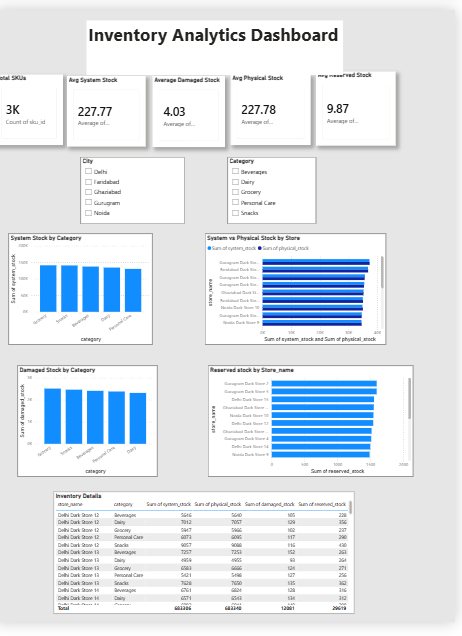

The page's visual inventory and layout, read from the dashboard file:
{"tool":"powerbi","page":{"name":"Page 2","canvas":[1280,1700],"ordinal":1},"visuals":[{"type":"cardVisual","title":"Total SKUs","fields":{"Data":["CountNonNull(Inventory.sku_id)"]},"box":[0,180,188.6,195.7],"z":0},{"type":"cardVisual","title":"Avg System Stock","fields":{"Data":["Avg(Inventory.system_stock)"]},"box":[198.6,181.4,218.6,195.7],"z":1},{"type":"cardVisual","title":"Avg Physical Stock","fields":{"Data":["Avg(Inventory.physical_stock)"]},"box":[655.7,178.6,222.9,195.7],"z":2},{"type":"cardVisual","title":"Average Damaged Stock","fields":{"Data":["Avg(Inventory.damaged_stock)"]},"box":[438.6,181.4,201.4,197.1],"z":3},{"type":"cardVisual","title":"Avg Reserved Stock","fields":{"Data":["Avg(Inventory.reserved_stock)"]},"box":[890,170,221.4,205.7],"z":4},{"type":"clusteredColumnChart","title":"System Stock by Category","fields":{"Category":["Products (1).category"],"Y":["Sum(Inventory.system_stock)"]},"box":[38.6,620,400,308.6],"z":5},{"type":"clusteredBarChart","title":"System vs Physical Stock by Store","fields":{"Category":["Stores.store_name"],"Y":["Sum(Inventory.system_stock)","Sum(Inventory.physical_stock)"]},"box":[582.9,620,502.9,308.6],"z":6},{"type":"clusteredColumnChart","title":"Damaged Stock by Category","fields":{"Category":["Products (1).category"],"Y":["Sum(Inventory.damaged_stock)"]},"box":[61.4,985.7,388.6,308.6],"z":7},{"type":"clusteredBarChart","title":"Reserved stock by Store_name","fields":{"Category":["Stores.store_name"],"Y":["Sum(Inventory.reserved_stock)"]},"box":[590,985.7,570,308.6],"z":8},{"type":"tableEx","title":"Inventory Details","fields":{"Values":["Stores.store_name","Products (1).category","Sum(Inventory.system_stock)","Sum(Inventory.physical_stock)","Sum(Inventory.damaged_stock)","Sum(Inventory.reserved_stock)"]},"box":[164.3,1338.6,835.7,340],"z":9},{"type":"slicer","title":"City","fields":{"Values":["Stores.city"]},"box":[238.6,408.6,290,185.7],"z":10},{"type":"slicer","title":"Category","fields":{"Values":["Products (1).category"]},"box":[644.3,408.6,245.7,185.7],"z":11},{"type":"textbox","box":[255.7,27.1,712.9,151.4],"z":12}]}

Visuals, with their boxes on the page's 1280x1700 design canvas (x1, y1, x2, y2). These are canvas units, not pixel positions in the 462x636 screenshot, which may show the page scaled, cropped or inside an application window:
"Total SKUs" cardVisual: <region>0, 180, 189, 376</region>
"Avg System Stock" cardVisual: <region>199, 181, 417, 377</region>
"Avg Physical Stock" cardVisual: <region>656, 179, 879, 374</region>
"Average Damaged Stock" cardVisual: <region>439, 181, 640, 378</region>
"Avg Reserved Stock" cardVisual: <region>890, 170, 1111, 376</region>
"System Stock by Category" clusteredColumnChart: <region>39, 620, 439, 929</region>
"System vs Physical Stock by Store" clusteredBarChart: <region>583, 620, 1086, 929</region>
"Damaged Stock by Category" clusteredColumnChart: <region>61, 986, 450, 1294</region>
"Reserved stock by Store_name" clusteredBarChart: <region>590, 986, 1160, 1294</region>
"Inventory Details" tableEx: <region>164, 1339, 1000, 1679</region>
"City" slicer: <region>239, 409, 529, 594</region>
"Category" slicer: <region>644, 409, 890, 594</region>
textbox: <region>256, 27, 969, 178</region>
